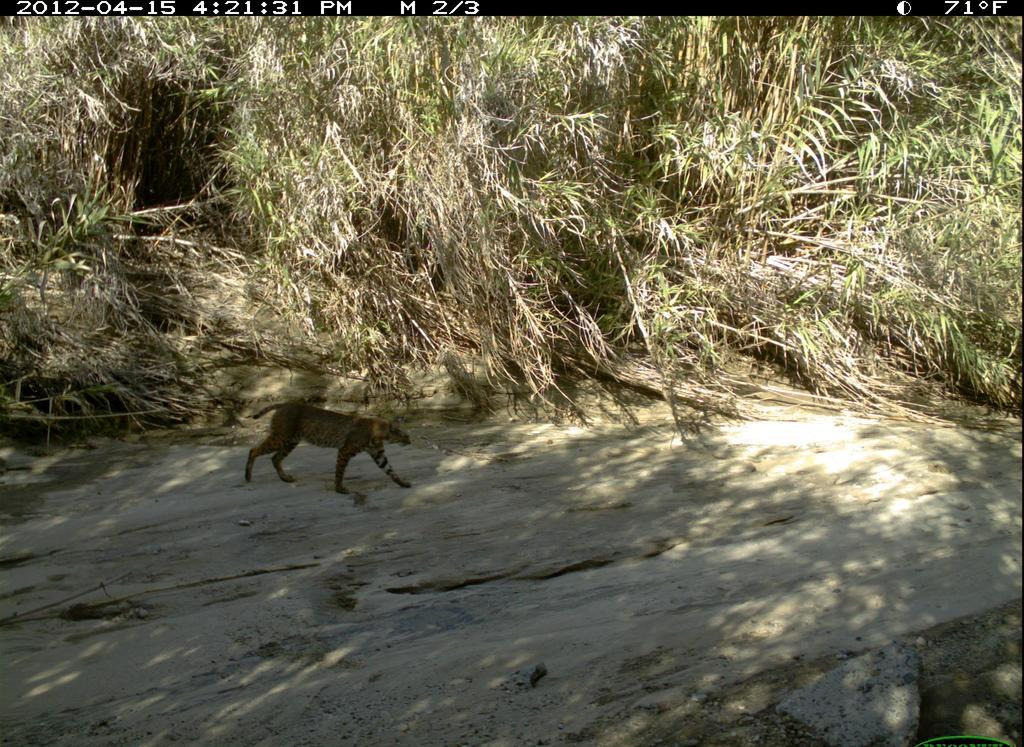bobcat: (239, 397, 427, 502)
